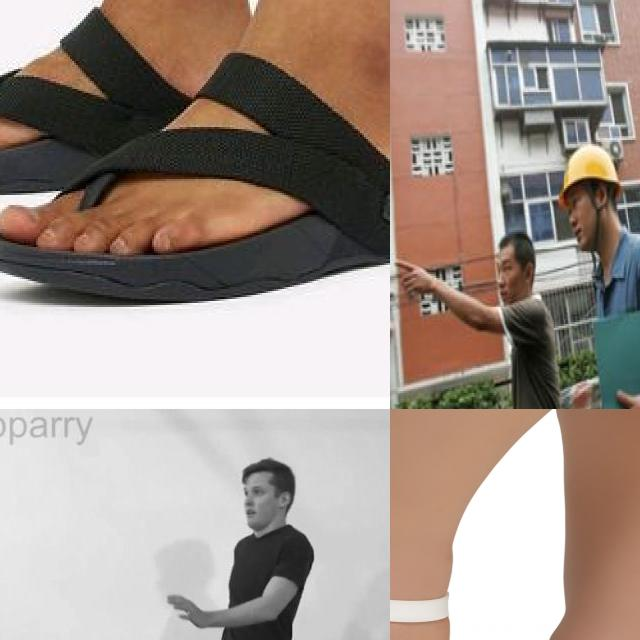No_Ear-Protection: (274, 484, 294, 512), (525, 263, 533, 284)
No_Glasses: (497, 259, 515, 274)
Sandals: (0, 0, 390, 320), (390, 487, 482, 640)
face_nomask: (237, 496, 269, 528), (497, 275, 528, 305)
hand_noglove: (154, 575, 210, 640), (397, 259, 433, 295)
head_helmet: (559, 143, 620, 206)
head_nohelmet: (498, 231, 536, 269)
person: (109, 456, 315, 640)
